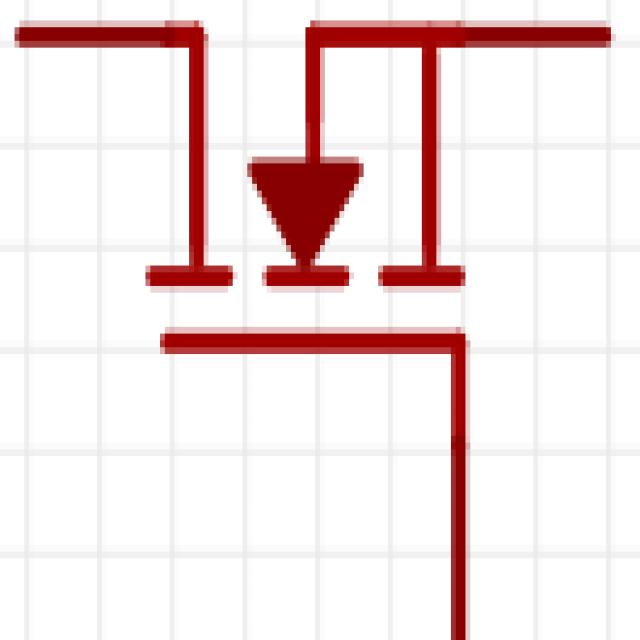nmos: (8, 2, 618, 640)
